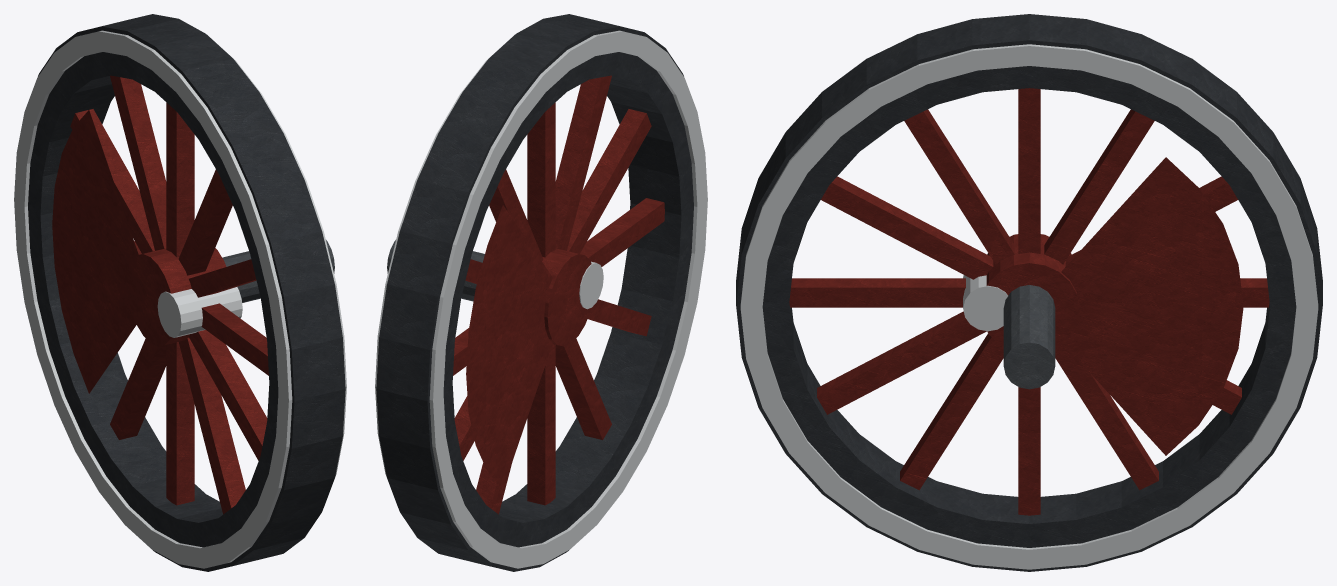
File: train_wheel_large.gltf
The picture shows the model from 3 angles, left to right: view 1: azimuth 30°, elevation 25°; view 2: azimuth 150°, elevation 25°; view 3: azimuth 270°, elevation 25°; orthographic projection. The views are drawn at different scales.
Size of the model in its own units: 0.608 by 1.7 by 1.7.
4 materials, 3 textured.
